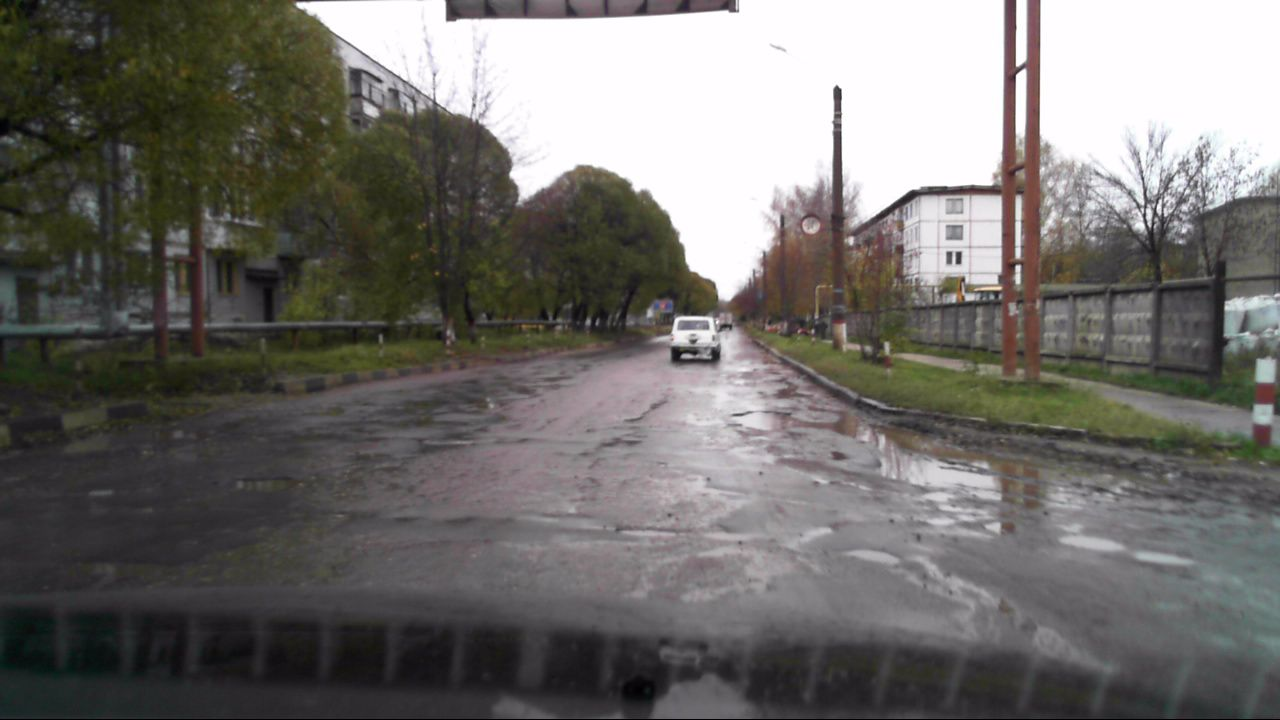speed_warning_40: (799, 214, 822, 236)
